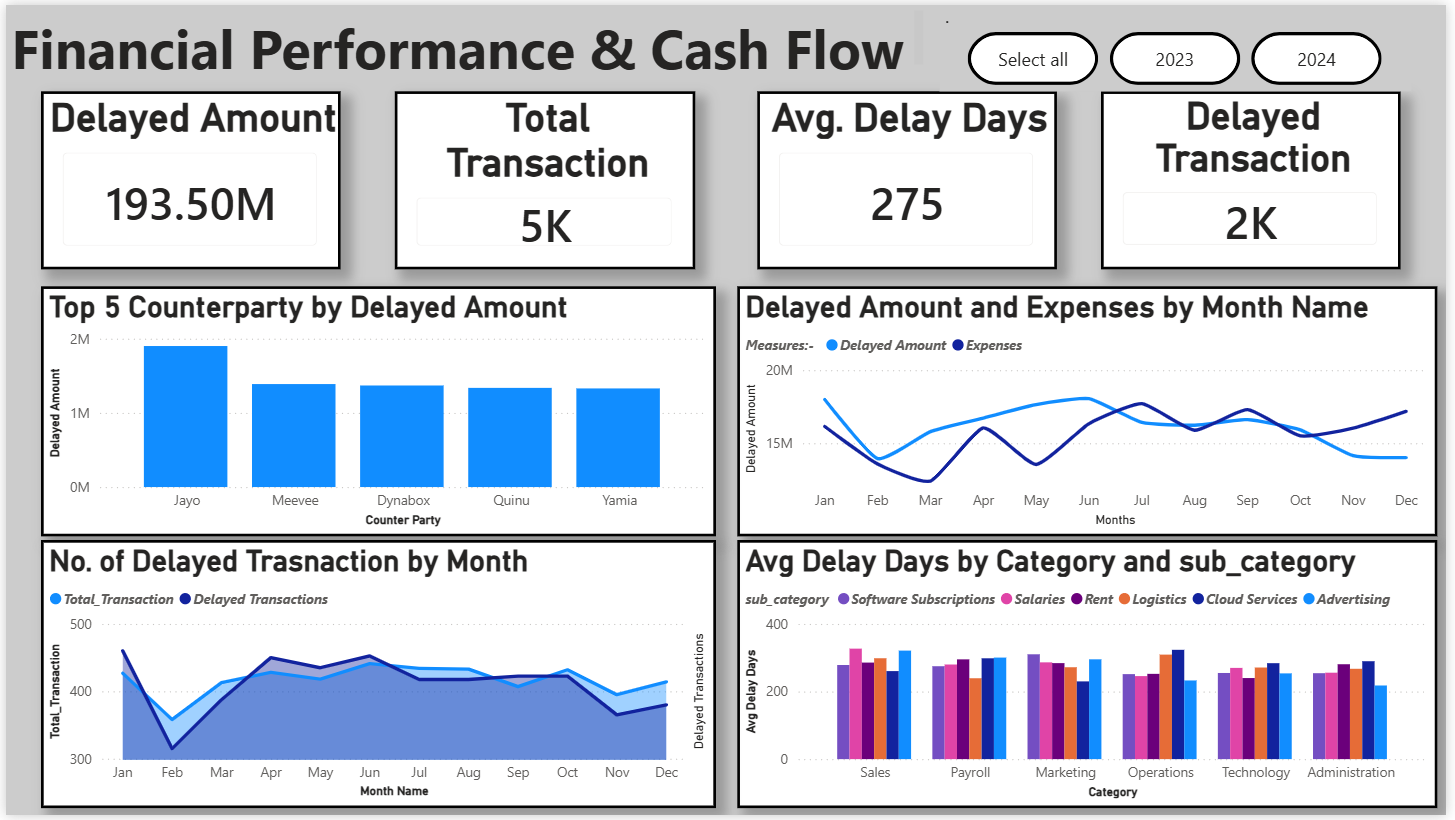

Layout of this report page (visuals, bound fields, positions):
{"tool":"powerbi","page":{"name":"Cash Flow & Risk","canvas":[1280,720],"ordinal":1},"visuals":[{"type":"cardVisual","title":"Delayed Amount","fields":{"Data":["finance_cleaned.Delayed Amount"]},"box":[31.4,76.7,266.3,158.1],"z":0},{"type":"cardVisual","title":"Total Transaction ","fields":{"Data":["finance_cleaned.Total_Transaction"]},"box":[345.3,76.7,267.4,158.1],"z":1000},{"type":"cardVisual","title":"Avg. Delay Days ","fields":{"Data":["finance_cleaned.Avg Delay Days"]},"box":[667.4,76.7,266.3,158.1],"z":2000},{"type":"cardVisual","title":"Delayed Transaction ","fields":{"Data":["finance_cleaned.Delayed Transactions"]},"box":[973.3,76.7,266.3,158.1],"z":3000},{"type":"textbox","box":[0,0,820.2,65.3],"z":4000},{"type":"advancedSlicerVisual","title":".","fields":{"Values":["Date.Year"]},"box":[830,0,419.3,77],"z":5000},{"type":"lineChart","fields":{"Y":["finance_cleaned.Delayed Amount"],"Y2":["finance_cleaned.Expenses"],"Category":["Date.Month Name"]},"box":[650,250,622.1,222.1],"z":6000},{"type":"clusteredColumnChart","title":"Top 5  Counterparty by Delayed Amount","fields":{"Y":["finance_cleaned.Delayed Amount"],"Category":["finance_cleaned.counterparty"]},"box":[31.4,250,600,222.1],"z":7000},{"type":"clusteredColumnChart","fields":{"Category":["finance_cleaned.Category"],"Y":["finance_cleaned.Avg Delay Days"],"Series":["finance_cleaned.sub_category"]},"box":[650,475.6,622.1,238.4],"z":7001},{"type":"areaChart","title":"No. of Delayed Trasnaction by Month","fields":{"Y":["finance_cleaned.Total_Transaction"],"Y2":["finance_cleaned.Delayed Transactions"],"Category":["Date.Month Name"]},"box":[31,476,600,238],"z":7002}]}

Visuals, with their boxes in screenshot pixels (x1, y1, x2, y2), scaled from the page's 1280x720 canvas onto the 1455x820 screenshot:
"Delayed Amount" cardVisual: {"x1": 36, "y1": 87, "x2": 338, "y2": 267}
"Total Transaction " cardVisual: {"x1": 393, "y1": 87, "x2": 696, "y2": 267}
"Avg. Delay Days " cardVisual: {"x1": 759, "y1": 87, "x2": 1061, "y2": 267}
"Delayed Transaction " cardVisual: {"x1": 1106, "y1": 87, "x2": 1409, "y2": 267}
textbox: {"x1": 0, "y1": 0, "x2": 932, "y2": 74}
"." advancedSlicerVisual: {"x1": 943, "y1": 0, "x2": 1420, "y2": 88}
lineChart - finance_cleaned.Delayed Amount x finance_cleaned.Expenses: {"x1": 739, "y1": 285, "x2": 1446, "y2": 538}
"Top 5  Counterparty by Delayed Amount" clusteredColumnChart: {"x1": 36, "y1": 285, "x2": 718, "y2": 538}
clusteredColumnChart - finance_cleaned.Category x finance_cleaned.Avg Delay Days: {"x1": 739, "y1": 542, "x2": 1446, "y2": 813}
"No. of Delayed Trasnaction by Month" areaChart: {"x1": 35, "y1": 542, "x2": 717, "y2": 813}
